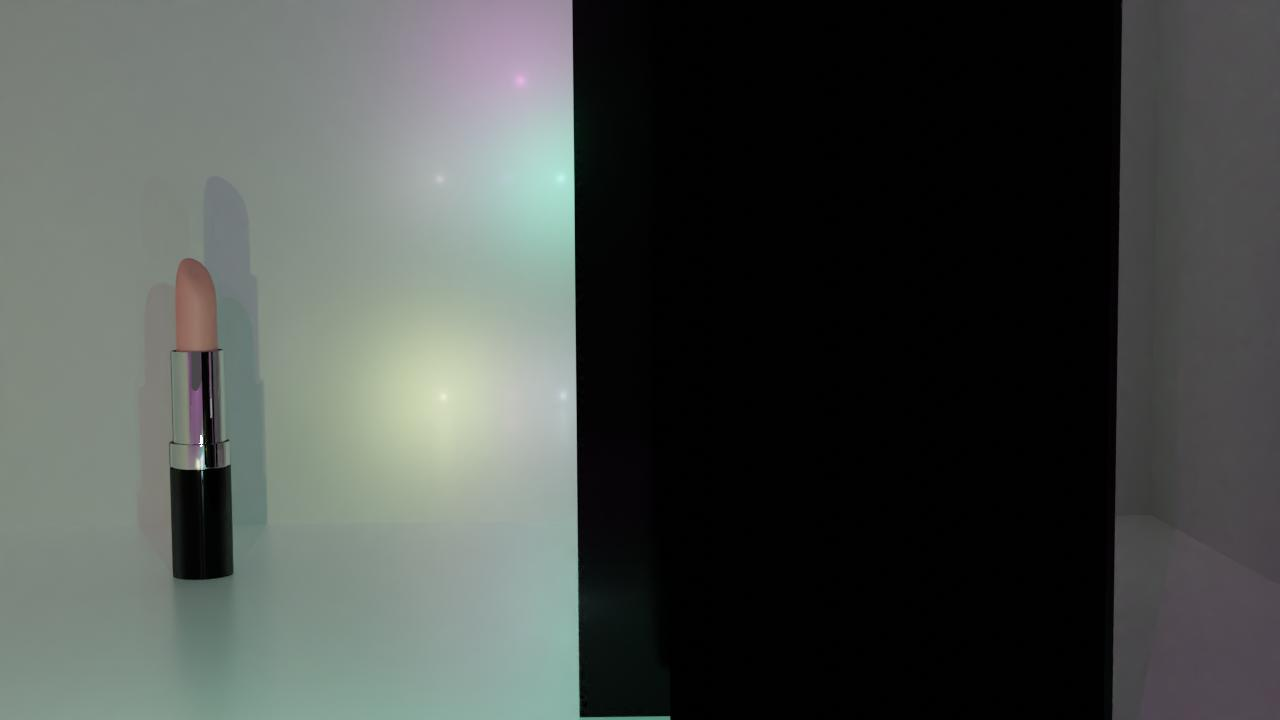CLASSIFIER_NAME: (167, 254, 235, 580)
